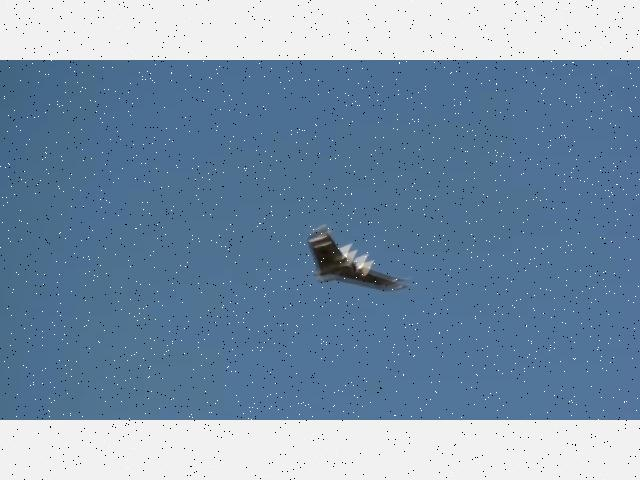Anti-Drone: (308, 226, 406, 292)
